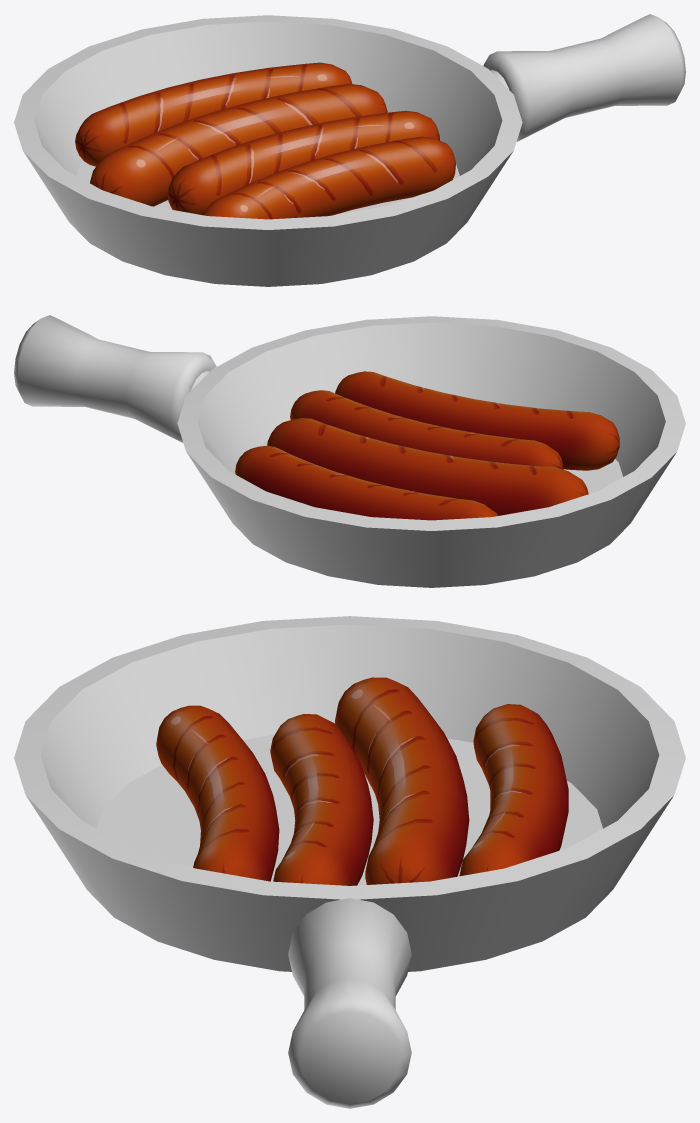
File: Lab_7_fire_sausage.fbx
3 renders of one model, top to bottom at view 1: azimuth 30°, elevation 25°; view 2: azimuth 150°, elevation 25°; view 3: azimuth 270°, elevation 25°, orthographic. The views are drawn at different scales.
Parts seen in each view (by area): view 1: Circle, sausgae, Cylinder; view 2: Circle, sausgae, Cylinder; view 3: Circle, sausgae, Cylinder.
Boxes of the visible parts, x1,y1,x2,y2 form: Circle: (14, 15, 522, 286); sausgae: (75, 62, 455, 219); Cylinder: (483, 14, 685, 141); Circle: (177, 316, 685, 587); sausgae: (235, 371, 619, 520); Cylinder: (14, 315, 216, 442); Circle: (14, 616, 685, 971); sausgae: (156, 677, 568, 885); Cylinder: (288, 898, 411, 1108).
Size of the model in its own units: 10.66 by 1.44 by 7.59.
